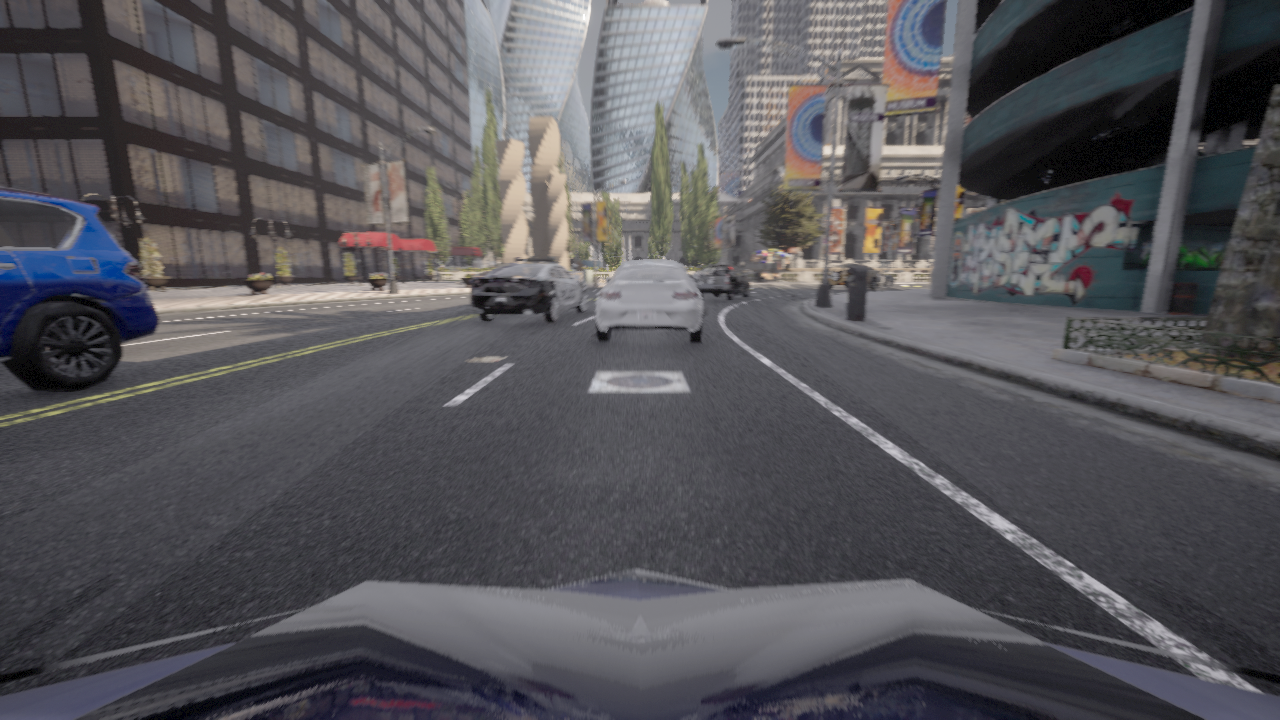cyclist: (0, 569, 1279, 719), (587, 260, 711, 342), (471, 257, 587, 322), (695, 264, 749, 300), (827, 264, 879, 289), (868, 268, 893, 287), (690, 270, 700, 280)
